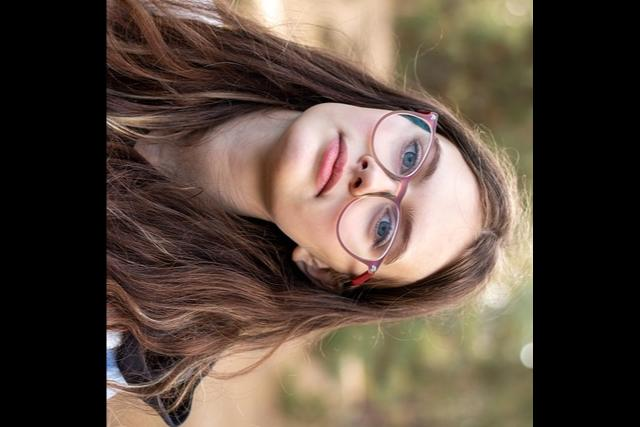Non_Gorille: (106, 0, 531, 427)
